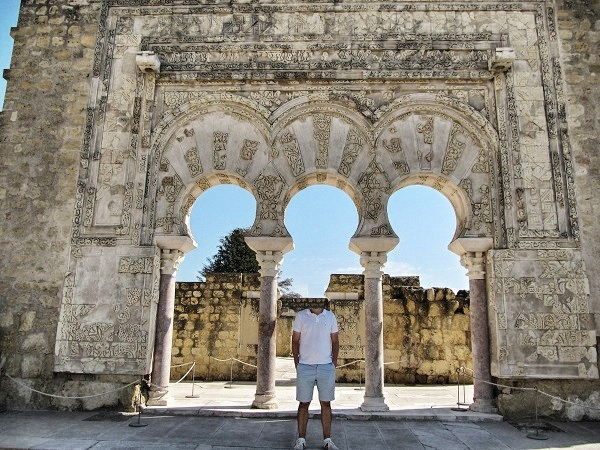arco-herradura: (374, 168, 478, 271), (271, 167, 376, 266), (169, 166, 269, 264)
